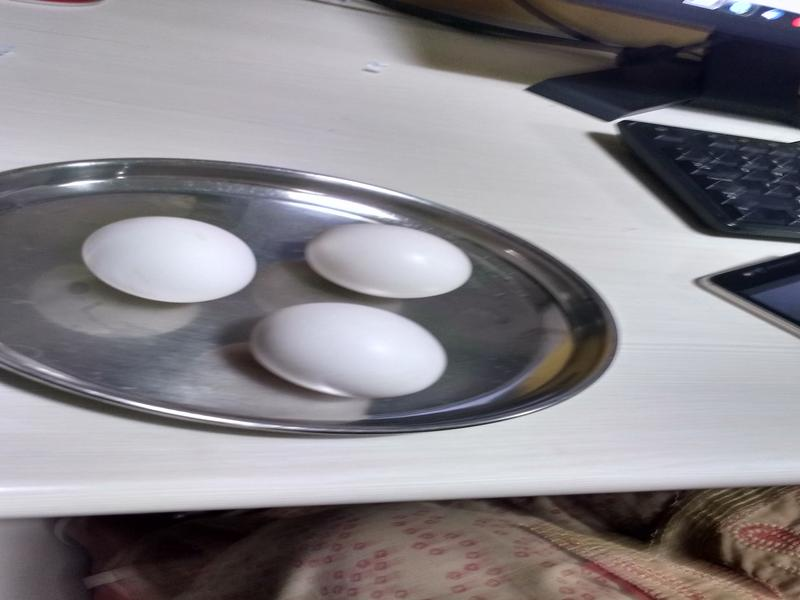egg: (81, 214, 254, 306)
